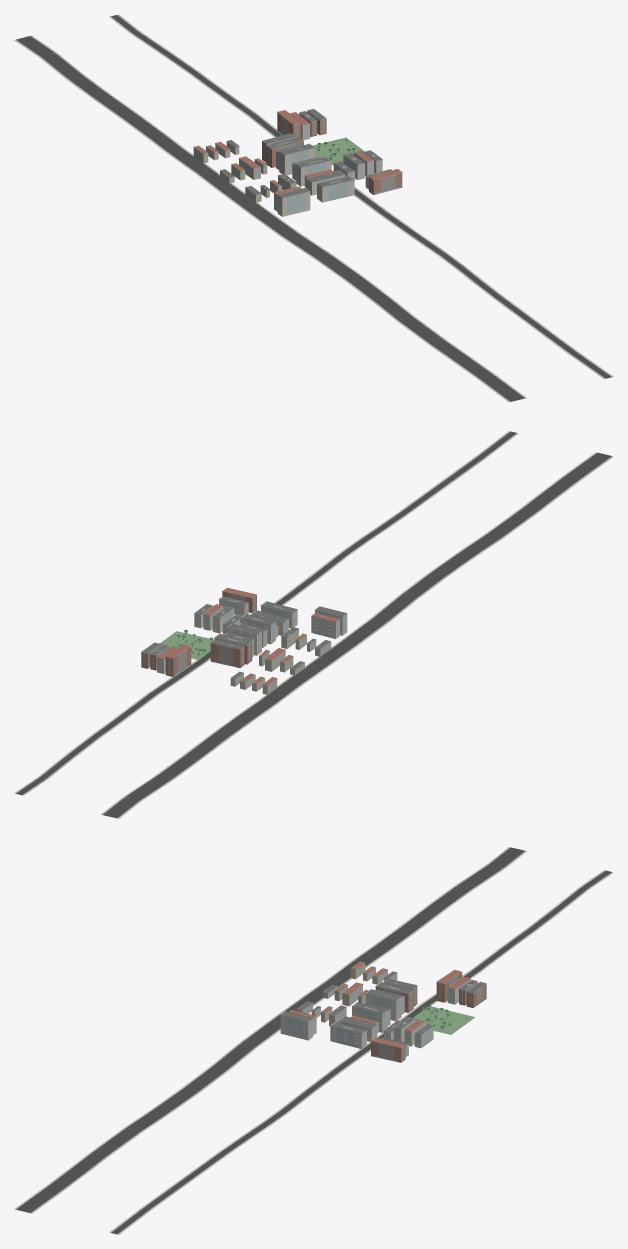
The model's file is tile-p002-p000.glb.
3 renders of one model, top to bottom at view 1: azimuth 30°, elevation 25°; view 2: azimuth 150°, elevation 25°; view 3: azimuth 330°, elevation 25°, orthographic.
Visible parts, largest first — view 1: road-v-16-mesh-1, road-v-18-mesh-3, road-v-16-mesh-0, road-v-18-mesh-2, neighborhood-park-block-313-mesh-4, building-1084-mesh-16; view 2: road-v-16-mesh-1, road-v-18-mesh-3, road-v-16-mesh-0, road-v-18-mesh-2, neighborhood-park-block-313-mesh-4, building-1168-mesh-119; view 3: road-v-16-mesh-1, road-v-18-mesh-3, road-v-16-mesh-0, road-v-18-mesh-2, neighborhood-park-block-313-mesh-4, building-1084-mesh-16.
Boxes of the visible parts, box(x1,y1,x2,y2) form: road-v-16-mesh-1: box(16, 36, 524, 401); road-v-18-mesh-3: box(111, 15, 611, 378); road-v-16-mesh-0: box(14, 35, 526, 402); road-v-18-mesh-2: box(109, 14, 613, 379); neighborhood-park-block-313-mesh-4: box(313, 137, 364, 164); building-1084-mesh-16: box(277, 191, 310, 216); road-v-16-mesh-1: box(103, 452, 611, 818); road-v-18-mesh-3: box(16, 431, 516, 795); road-v-16-mesh-0: box(101, 452, 613, 818); road-v-18-mesh-2: box(14, 431, 518, 795); neighborhood-park-block-313-mesh-4: box(160, 631, 213, 659); building-1168-mesh-119: box(210, 642, 244, 668); road-v-16-mesh-1: box(16, 847, 524, 1212); road-v-18-mesh-3: box(111, 870, 611, 1234); road-v-16-mesh-0: box(14, 847, 526, 1213); road-v-18-mesh-2: box(109, 870, 613, 1234); neighborhood-park-block-313-mesh-4: box(413, 1006, 475, 1034); building-1084-mesh-16: box(280, 1011, 312, 1040).
Size of the model in its own units: 282 by 38.33 by 1600.
